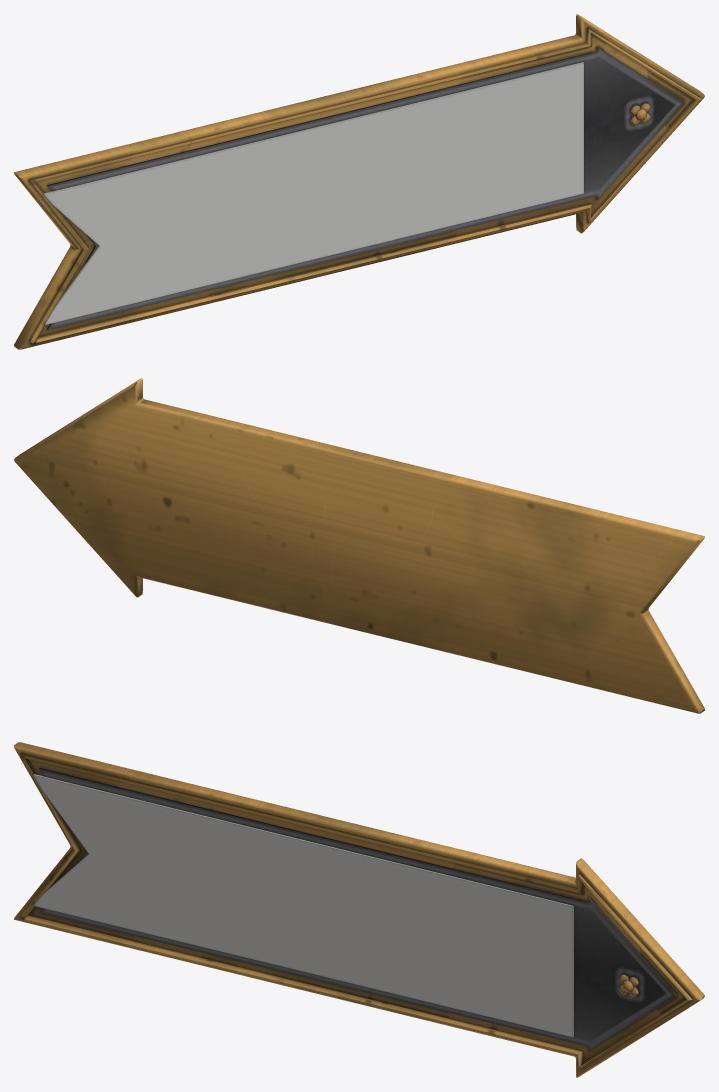
File: ArrowBoard.fbx
3 views of the same model, one above another, from view 1: azimuth 30°, elevation 25°; view 2: azimuth 150°, elevation 25°; view 3: azimuth 330°, elevation 25° (orthographic).
Parts seen in each view (by area): view 1: ArrowBoard_Field, ArrowBoard_Main; view 2: ArrowBoard_Main; view 3: ArrowBoard_Field, ArrowBoard_Main.
Part boxes in pixels (x1,y1,x2,y2): ArrowBoard_Field: (41, 62, 583, 325); ArrowBoard_Main: (14, 14, 704, 349); ArrowBoard_Main: (14, 378, 704, 713); ArrowBoard_Field: (30, 774, 573, 1037); ArrowBoard_Main: (14, 742, 704, 1077).
Bounding box in the file's own units: 329 × 99.09 × 9.88.
